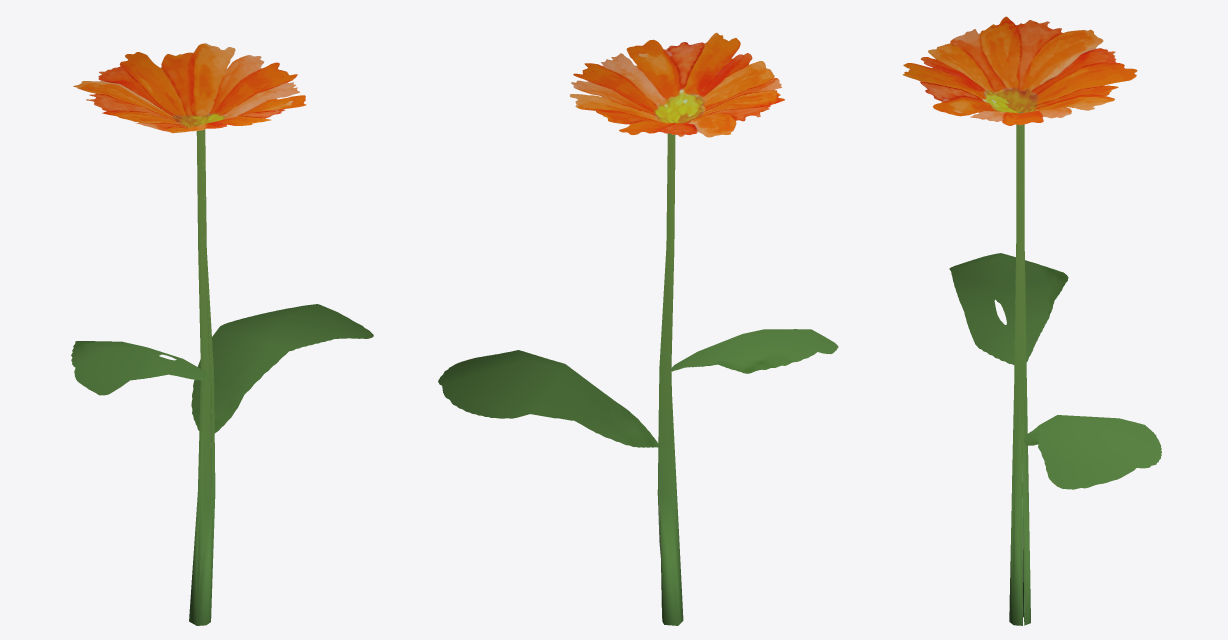
The model's file is FlowerF_VAR.fbx.
The picture shows the model from 3 angles, left to right: view 1: azimuth 30°, elevation 25°; view 2: azimuth 150°, elevation 25°; view 3: azimuth 270°, elevation 25°; orthographic projection. The views are drawn at different scales.
Visible parts, largest first — view 1: FlowerF_VARLOD0; view 2: FlowerF_VARLOD0; view 3: FlowerF_VARLOD0.
Boxes of the visible parts, x1,y1,x2,y2 form: FlowerF_VARLOD0: (71,43,373,625); FlowerF_VARLOD0: (438,32,838,625); FlowerF_VARLOD0: (902,16,1161,625).
Size of what is drawn, in the model's own units: 45.75 by 62.18 by 31.78.
